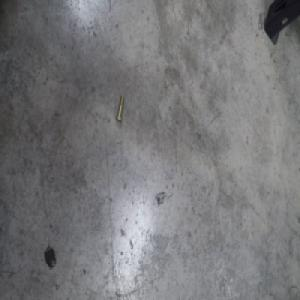Bolt: (115, 95, 125, 123)
